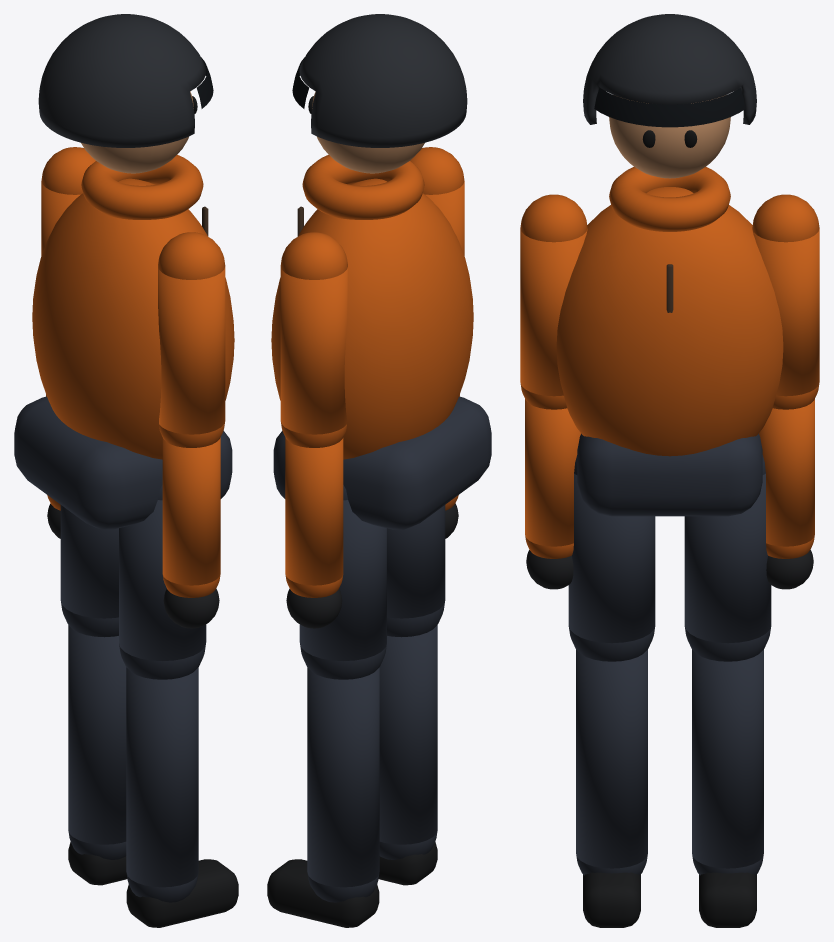
The model's file is rider.glb.
3 views of the same model, side by side, from view 1: azimuth 30°, elevation 25°; view 2: azimuth 150°, elevation 25°; view 3: azimuth 270°, elevation 25° (orthographic).
Visible parts, largest first — view 1: J_Badan, J_Helm, J_BetisR, J_LenganAtasR, J_BetisL, J_Pinggul, J_PahaR, J_LenganBawahR, J_PahaL, J_SepatuR, J_LenganAtasL, J_Kepala (+2 smaller); view 2: J_Badan, J_Helm, J_BetisL, J_LenganAtasL, J_BetisR, J_Pinggul, J_PahaL, J_LenganBawahL, J_PahaR, J_SepatuL, J_LenganAtasR, J_Kepala (+2 smaller); view 3: J_Badan, J_BetisL, J_BetisR, J_Pinggul, J_PahaL, J_PahaR, J_Helm, J_LenganAtasR, J_LenganAtasL, J_LenganBawahL, J_LenganBawahR, J_Kepala (+5 smaller).
Boxes of the visible parts, bbox=[...] form: J_Badan: bbox=[32, 154, 234, 459]; J_Helm: bbox=[38, 14, 206, 147]; J_BetisR: bbox=[126, 667, 198, 902]; J_LenganAtasR: bbox=[158, 232, 225, 447]; J_BetisL: bbox=[68, 625, 126, 859]; J_Pinggul: bbox=[14, 396, 232, 529]; J_PahaR: bbox=[119, 485, 206, 679]; J_LenganBawahR: bbox=[162, 437, 220, 597]; J_PahaL: bbox=[60, 505, 118, 637]; J_SepatuR: bbox=[126, 859, 238, 927]; J_LenganAtasL: bbox=[41, 147, 95, 255]; J_Kepala: bbox=[81, 91, 193, 173]; J_Badan: bbox=[271, 154, 473, 459]; J_Helm: bbox=[299, 14, 467, 147]; J_BetisL: bbox=[307, 667, 379, 902]; J_LenganAtasL: bbox=[280, 232, 347, 447]; J_BetisR: bbox=[379, 625, 437, 859]; J_Pinggul: bbox=[273, 396, 491, 529]; J_PahaL: bbox=[299, 485, 386, 679]; J_LenganBawahL: bbox=[285, 437, 343, 597]; J_PahaR: bbox=[387, 505, 445, 637]; J_SepatuL: bbox=[267, 859, 379, 927]; J_LenganAtasR: bbox=[410, 147, 464, 255]; J_Kepala: bbox=[312, 91, 424, 173]; J_Badan: bbox=[556, 167, 783, 456]; J_BetisL: bbox=[692, 649, 763, 875]; J_BetisR: bbox=[576, 649, 647, 875]; J_Pinggul: bbox=[577, 433, 762, 516]; J_PahaL: bbox=[684, 455, 771, 661]; J_PahaR: bbox=[568, 455, 655, 661]; J_Helm: bbox=[583, 14, 756, 124]; J_LenganAtasR: bbox=[520, 194, 587, 409]; J_LenganAtasL: bbox=[752, 194, 819, 409]; J_LenganBawahL: bbox=[759, 399, 814, 558]; J_LenganBawahR: bbox=[525, 399, 580, 558]; J_Kepala: bbox=[609, 95, 730, 178].
Bounding box in the file's own units: 0.33 × 1.67 × 0.516.
